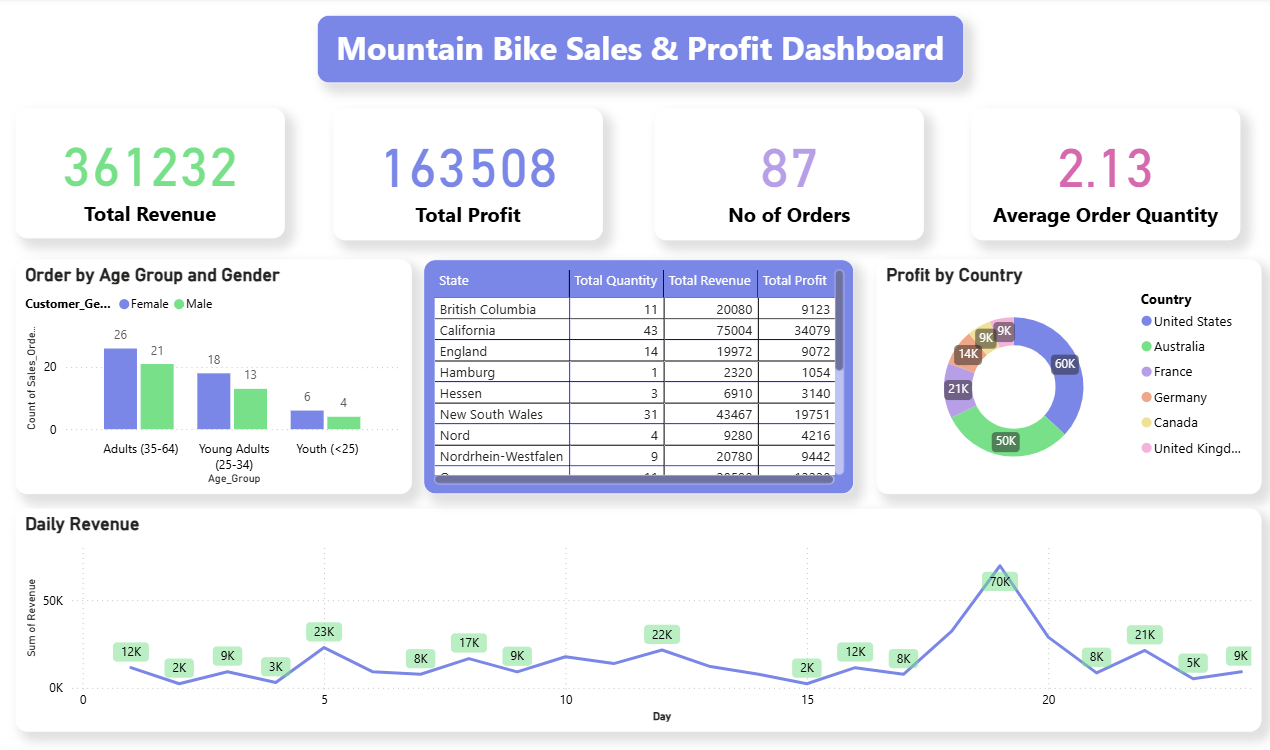

Layout of this report page (visuals, bound fields, positions):
{"tool":"powerbi","page":{"name":"Page 1","canvas":[1280,752],"ordinal":0},"visuals":[{"type":"card","fields":{"Values":["Sum(Sheet1.Profit)"]},"box":[339.2,110.1,268.4,131.8],"z":0},{"type":"card","fields":{"Values":["Sum(Sheet1.Revenue)"]},"box":[22,110.1,268.4,130.1],"z":1000},{"type":"card","fields":{"Values":["Count(Sheet1.Sales_Order #)"]},"box":[659.6,110.1,268.4,131.8],"z":2000},{"type":"card","fields":{"Values":["Avg(Sheet1.Order_Quantity)"]},"box":[975.2,110.1,268.4,131.8],"z":3000},{"type":"clusteredColumnChart","title":"Order by Age Group and Gender","fields":{"Category":["Sheet1.Age_Group"],"Y":["CountNonNull(Sheet1.Sales_Order #)"],"Series":["Sheet1.Customer_Gender"]},"box":[22,261.4,395.3,234.2],"z":4000},{"type":"donutChart","title":"Profit by Country","fields":{"Category":["Sheet1.Country"],"Y":["Sum(Sheet1.Profit)"]},"box":[880.8,261.4,383.9,234.2],"z":4001},{"type":"lineChart","title":"Daily Revenue","fields":{"Category":["Sheet1.Day"],"Y":["Sum(Sheet1.Revenue)"]},"box":[22,510.3,1242.7,222.8],"z":4002},{"type":"tableEx","title":"Order by Age Group and Gender","fields":{"Values":["Sheet1.State","Sum(Sheet1.Order_Quantity)","Sum(Sheet1.Revenue)","Sum(Sheet1.Profit)"]},"box":[428.7,261.4,429.4,234.2],"z":4003},{"type":"textbox","box":[322.8,18.7,645.6,68],"z":4004}]}

Visuals, with their boxes in screenshot pixels (x1, y1, x2, y2), scaled from the page's 1280x752 canvas onto the 1270x750 screenshot:
card - Sum(Sheet1.Profit): bbox=[337, 110, 603, 241]
card - Sum(Sheet1.Revenue): bbox=[22, 110, 288, 240]
card - Count(Sheet1.Sales_Order #): bbox=[654, 110, 921, 241]
card - Avg(Sheet1.Order_Quantity): bbox=[968, 110, 1234, 241]
"Order by Age Group and Gender" clusteredColumnChart: bbox=[22, 261, 414, 494]
"Profit by Country" donutChart: bbox=[874, 261, 1255, 494]
"Daily Revenue" lineChart: bbox=[22, 509, 1255, 731]
"Order by Age Group and Gender" tableEx: bbox=[425, 261, 851, 494]
textbox: bbox=[320, 19, 961, 86]
